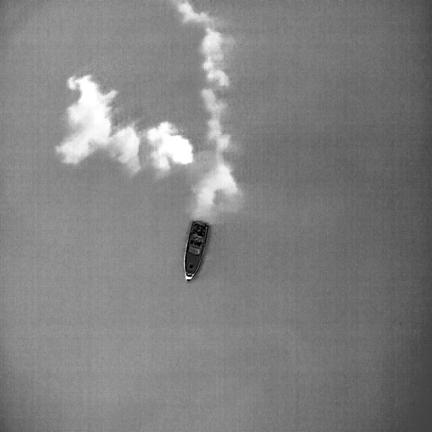flukeprints: (57, 75, 115, 163), (146, 122, 191, 170), (107, 125, 141, 173)
